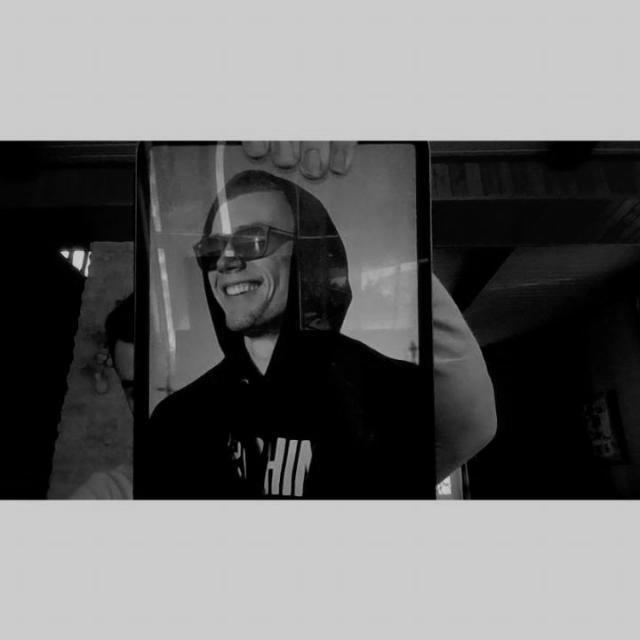fake: (135, 140, 436, 499)
